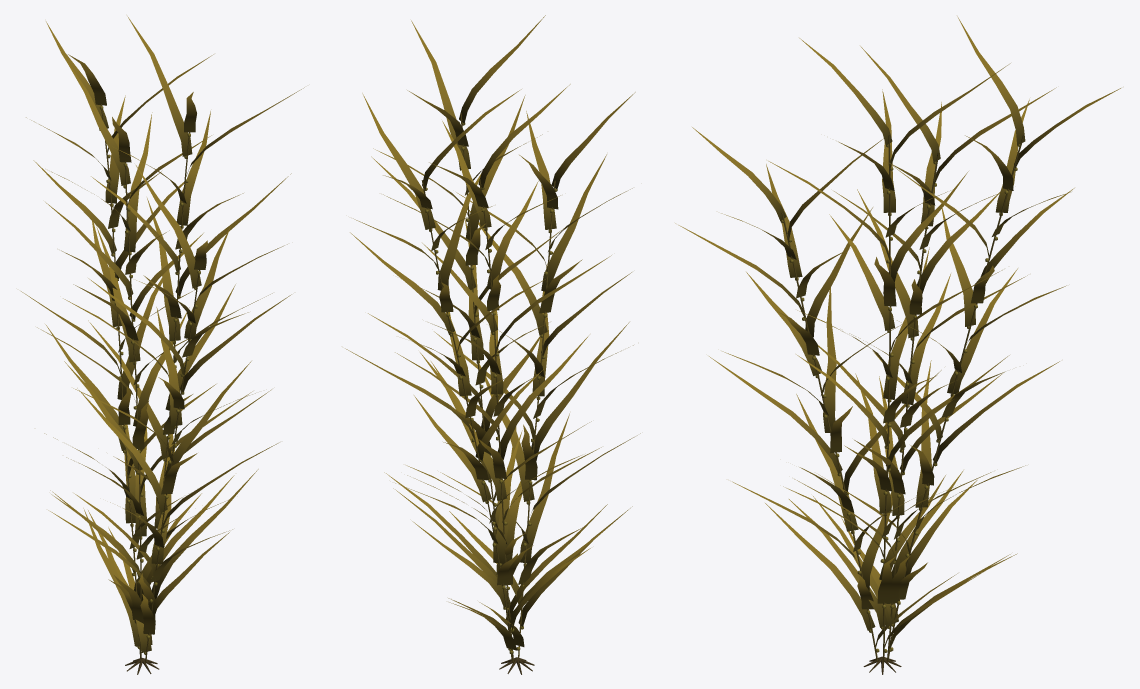
File: kelp-giant-a.lod0.glb
3 views of the same model, side by side, from view 1: azimuth 30°, elevation 25°; view 2: azimuth 150°, elevation 25°; view 3: azimuth 270°, elevation 25° (orthographic). The views are drawn at different scales.
Parts seen in each view (by area): view 1: kelp-giant-a.lod0; view 2: kelp-giant-a.lod0; view 3: kelp-giant-a.lod0.
Boxes of the visible parts, bbox=[...] form: kelp-giant-a.lod0: bbox=[21, 16, 304, 674]; kelp-giant-a.lod0: bbox=[345, 15, 640, 674]; kelp-giant-a.lod0: bbox=[675, 16, 1120, 674].
Bounding box in the file's own units: 2.89 × 6.82 × 4.4.
